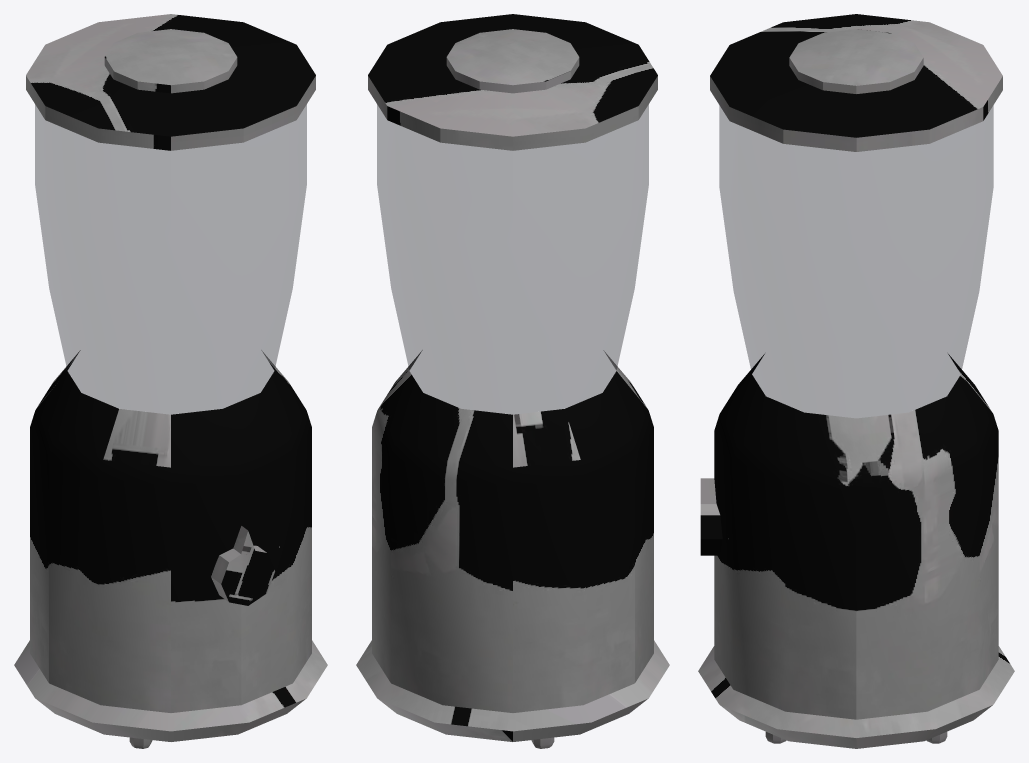
Rendered from shake-machine.glb.
The picture shows the model from 3 angles, left to right: view 1: azimuth 30°, elevation 25°; view 2: azimuth 150°, elevation 25°; view 3: azimuth 270°, elevation 25°; orthographic projection.
Parts seen in each view (by area): view 1: SM_Blender_T_Blender_0, SM_Blender_M_Glass_0; view 2: SM_Blender_T_Blender_0, SM_Blender_M_Glass_0; view 3: SM_Blender_T_Blender_0, SM_Blender_M_Glass_0.
Part boxes in pixels (box(x1,y1,x2,y2)): SM_Blender_T_Blender_0: box(14, 14, 327, 748); SM_Blender_M_Glass_0: box(35, 105, 306, 414); SM_Blender_T_Blender_0: box(356, 14, 669, 748); SM_Blender_M_Glass_0: box(377, 105, 648, 414); SM_Blender_T_Blender_0: box(698, 14, 1014, 748); SM_Blender_M_Glass_0: box(719, 106, 993, 417).
Bounding box in the file's own units: 0.2524 × 0.5738 × 0.2524.
2 materials, 1 textured.
